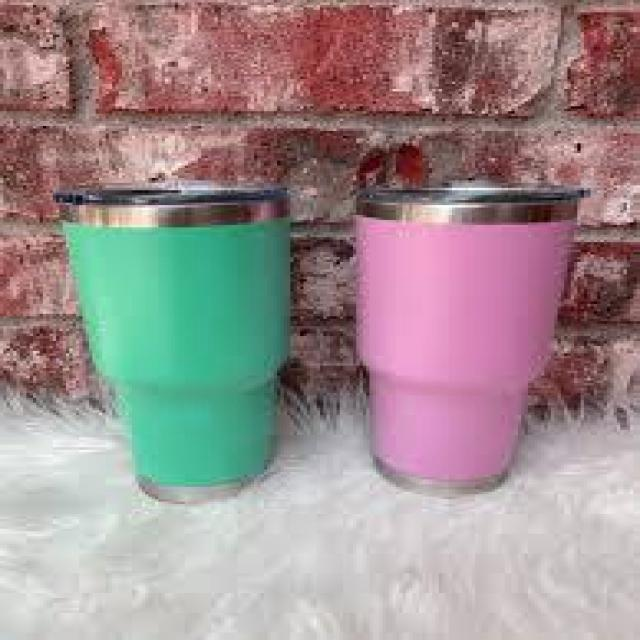bottle: (51, 186, 299, 516), (348, 182, 596, 510)
